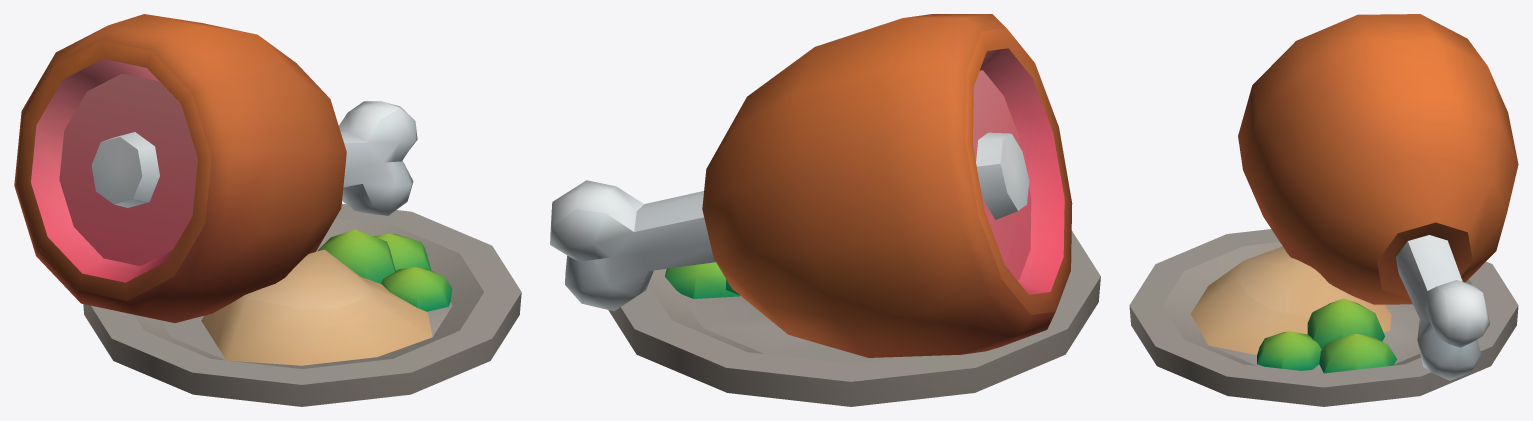
The model's file is plate_food_a.glb.
3 renders of one model, left to right at view 1: azimuth 30°, elevation 25°; view 2: azimuth 150°, elevation 25°; view 3: azimuth 270°, elevation 25°, orthographic. The views are drawn at different scales.
Visible parts, largest first — view 1: plate_food_A; view 2: plate_food_A; view 3: plate_food_A.
Boxes of the visible parts, box(x1,y1,x2,y2) form: plate_food_A: box(14, 14, 521, 406); plate_food_A: box(550, 14, 1100, 406); plate_food_A: box(1129, 14, 1518, 406).
Size of the model in its own units: 1.02 by 0.7876 by 0.9705.
Materials: 1 (1 with a texture image).
